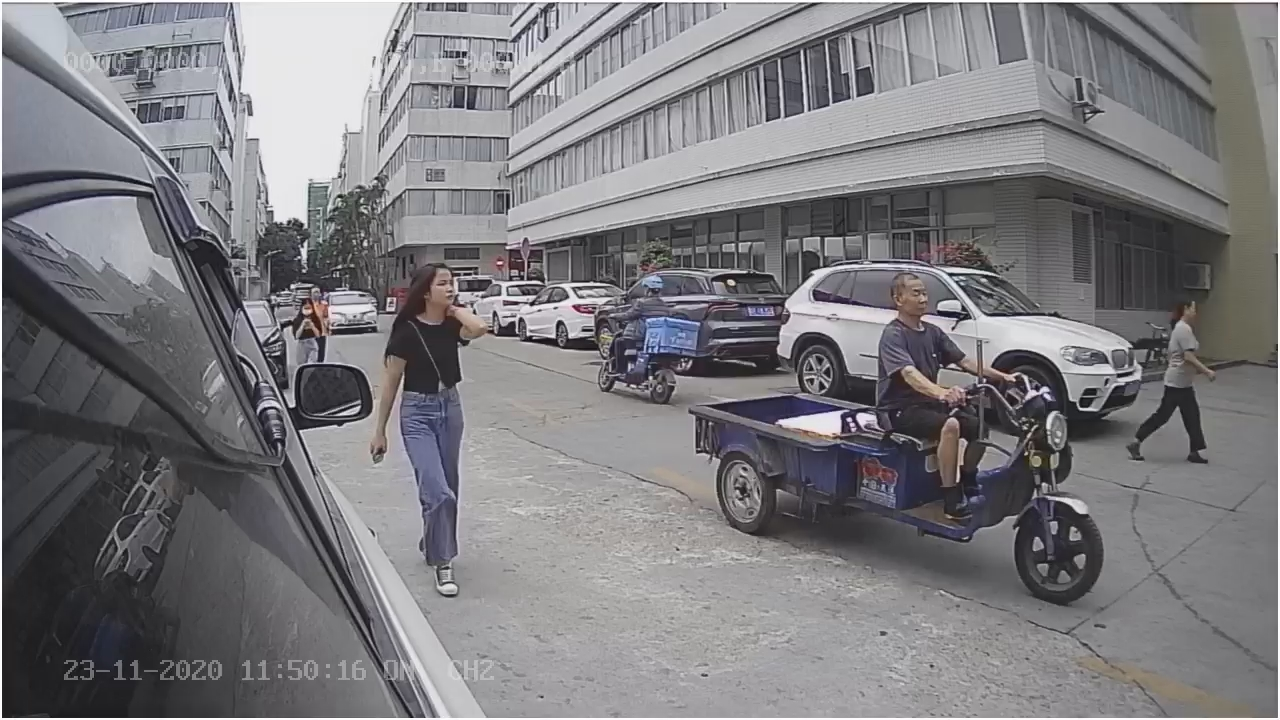person: (373, 254, 497, 477), (1126, 279, 1209, 471), (873, 262, 986, 401)
